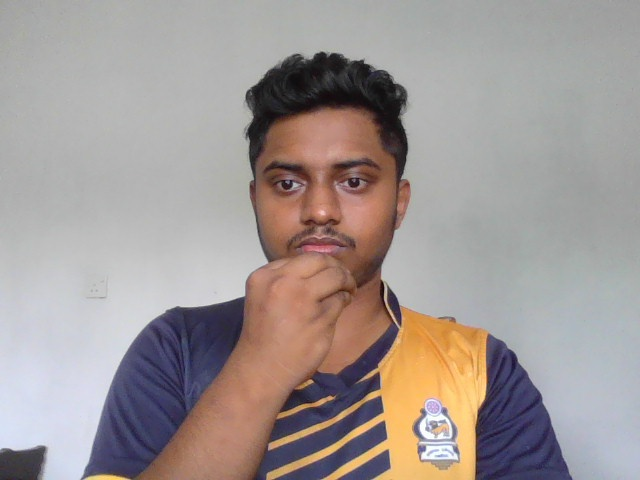Eat: (243, 243, 360, 386)
